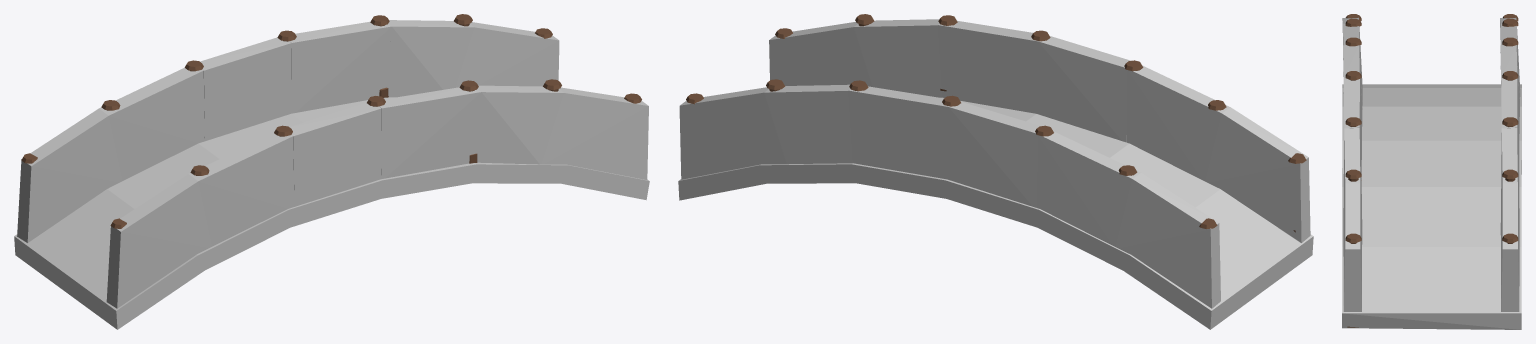
File: SM_Bld_Bridge_01.fbx
3 renders of one model, left to right at view 1: azimuth 30°, elevation 25°; view 2: azimuth 150°, elevation 25°; view 3: azimuth 270°, elevation 25°, orthographic. The views are drawn at different scales.
Parts seen in each view (by area): view 1: SM_Bld_Bridge_01_ConvexHulls, SM_Bld_Bridge_01; view 2: SM_Bld_Bridge_01_ConvexHulls, SM_Bld_Bridge_01; view 3: SM_Bld_Bridge_01_ConvexHulls, SM_Bld_Bridge_01.
Boxes of the visible parts, left/top/right/bottom form: SM_Bld_Bridge_01_ConvexHulls: left=14, top=20, right=649, bottom=329; SM_Bld_Bridge_01: left=21, top=14, right=641, bottom=228; SM_Bld_Bridge_01_ConvexHulls: left=678, top=19, right=1313, bottom=329; SM_Bld_Bridge_01: left=686, top=14, right=1306, bottom=232; SM_Bld_Bridge_01_ConvexHulls: left=1342, top=17, right=1521, bottom=329; SM_Bld_Bridge_01: left=1345, top=14, right=1518, bottom=327.
Size of the model in its own units: 759 by 251 by 219.
Materials: 3 (2 with a texture image).
